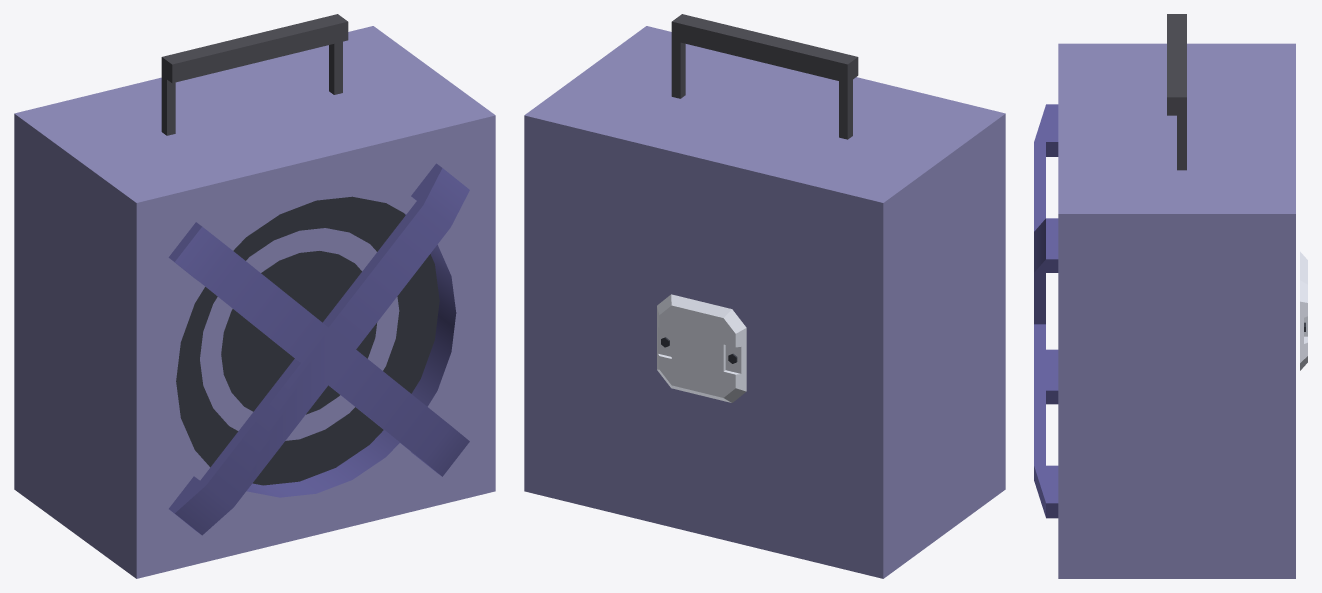
File: Speaker.fbx
3 renders of one model, left to right at view 1: azimuth 30°, elevation 25°; view 2: azimuth 150°, elevation 25°; view 3: azimuth 270°, elevation 25°, orthographic. The views are drawn at different scales.
Visible parts, largest first — view 1: mergedBlocks; view 2: mergedBlocks; view 3: mergedBlocks.
Part boxes in pixels (x1,y1,x2,y2): mergedBlocks: [14, 14, 495, 578]; mergedBlocks: [524, 14, 1005, 578]; mergedBlocks: [1034, 14, 1307, 578].
Bounding box in the file's own units: 10 × 12 × 6.8.
